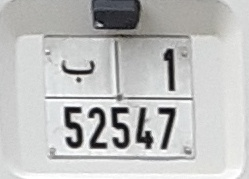1: (157, 48, 180, 95)
2: (86, 104, 109, 151)
4: (134, 106, 156, 153)
5: (109, 104, 132, 151), (62, 105, 84, 151)
7: (156, 104, 179, 153)
b: (56, 55, 100, 86)
